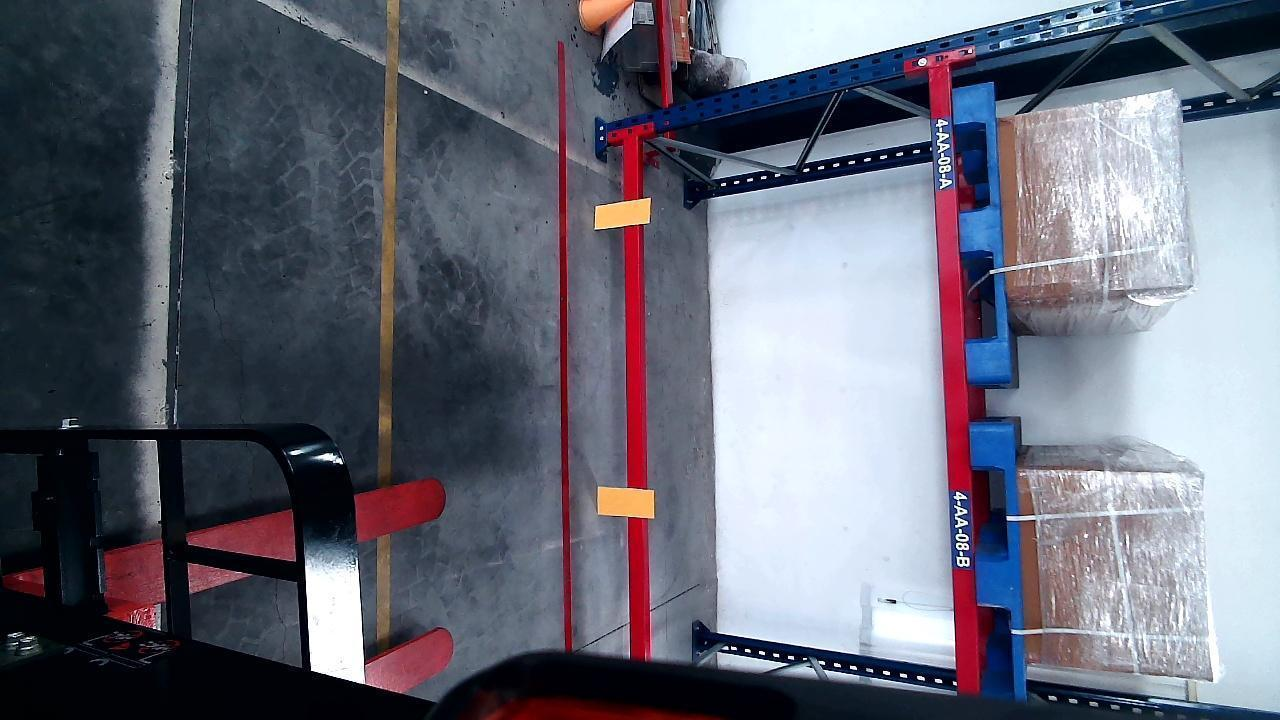red_line: (558, 42, 575, 648)
yellow_line: (375, 9, 401, 637)
